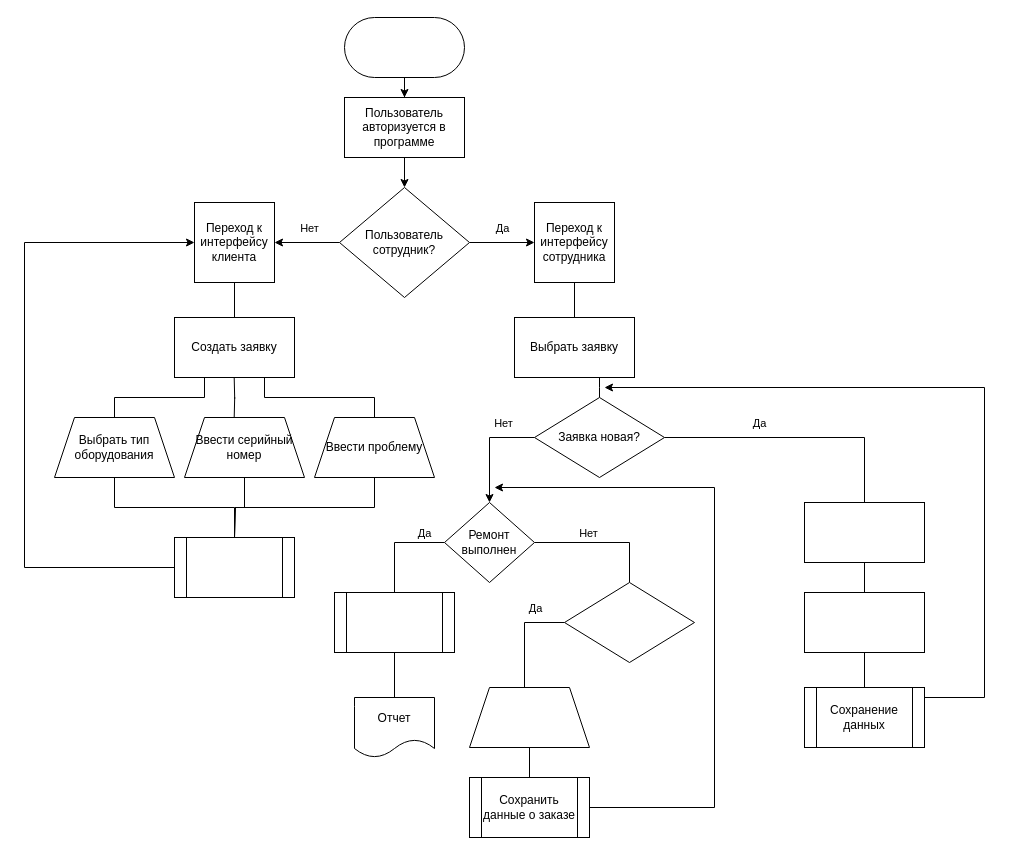
Image size: 1010x855. Some labels were removed from this diagram. The centre of each missing label's shape, as x and y in pixels:
Выбрать запчасти, их количество и заказать: (529,717)
Заказать новые запчасти?: (629,622)
Начало программы: (404,47)
Определить приоритетность: (864,532)
Определить ремонтного исполнителя: (864,622)
Присвоить номер заявке и сохранить заявку: (234,567)
Формирование отчета: (394,622)
